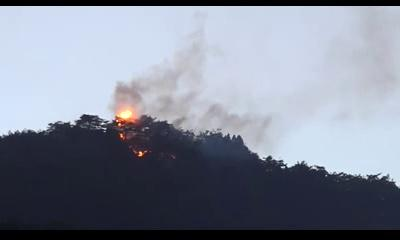fire: (119, 110, 135, 120)
